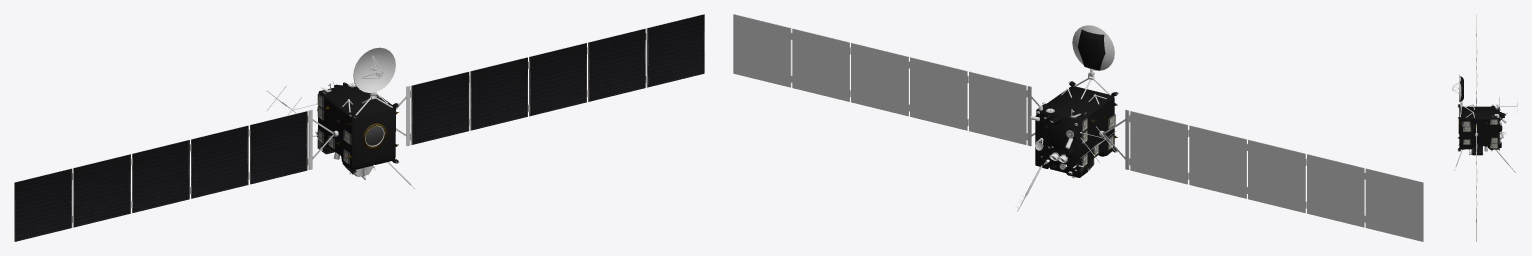
File: Rosetta.glb
3 views of the same model, side by side, from view 1: azimuth 30°, elevation 25°; view 2: azimuth 150°, elevation 25°; view 3: azimuth 270°, elevation 25° (orthographic). The views are drawn at different scales.
Parts seen in each view (by area): view 1: panels_02, panels_01, black_krinkle, dish, vents, foil_silver; view 2: panels_02, panels_01, black_krinkle, dish, vents; view 3: black_krinkle, dish, vents, panels_01, panels_02, vents.004, foil_gold.
Part boxes in pixels (bbox=[...]): panels_02: bbox=[14, 109, 338, 241]; panels_01: bbox=[396, 14, 704, 146]; black_krinkle: bbox=[316, 82, 398, 174]; dish: bbox=[266, 47, 415, 188]; vents: bbox=[317, 94, 351, 164]; foil_silver: bbox=[318, 126, 383, 153]; panels_02: bbox=[1099, 109, 1423, 241]; panels_01: bbox=[733, 14, 1039, 146]; black_krinkle: bbox=[1035, 29, 1117, 177]; dish: bbox=[1015, 25, 1118, 211]; vents: bbox=[1081, 114, 1115, 166]; black_krinkle: bbox=[1458, 76, 1505, 150]; dish: bbox=[1452, 74, 1517, 172]; vents: bbox=[1462, 119, 1498, 148]; panels_01: bbox=[1475, 124, 1478, 241]; panels_02: bbox=[1476, 14, 1477, 106]; vents.004: bbox=[1472, 146, 1482, 155]; foil_gold: bbox=[1458, 119, 1487, 142].
Size of the model in its own units: 31.96 by 6.92 by 4.55.
Materials: 10 (6 with a texture image).
